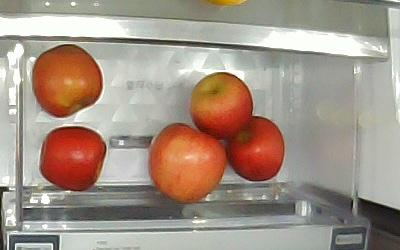apple: (148, 123, 226, 204), (32, 42, 104, 118), (38, 125, 106, 192), (188, 71, 252, 139), (229, 116, 285, 182)
